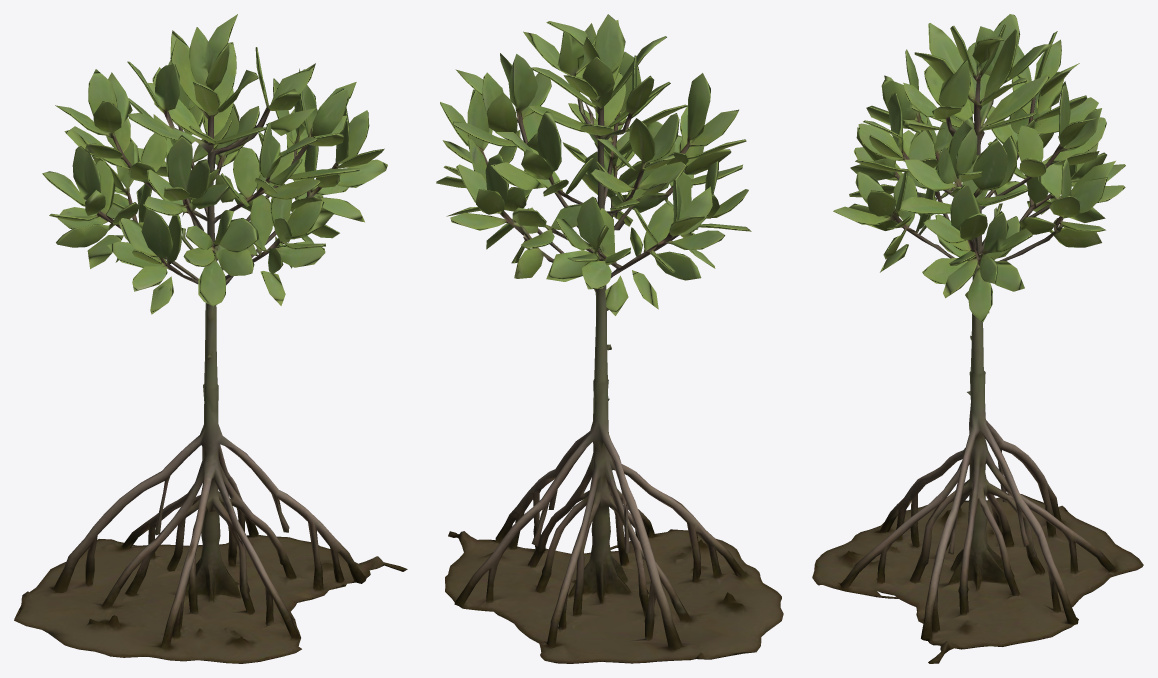
File: mangrove_2.glb
The picture shows the model from 3 angles, left to right: view 1: azimuth 30°, elevation 25°; view 2: azimuth 150°, elevation 25°; view 3: azimuth 270°, elevation 25°; orthographic projection.
Visible parts, largest first — view 1: tripo_node_24590e51-4d40-4ea1-9e47-aa69668ac8d5; view 2: tripo_node_24590e51-4d40-4ea1-9e47-aa69668ac8d5; view 3: tripo_node_24590e51-4d40-4ea1-9e47-aa69668ac8d5.
Part boxes in pixels (x1,y1,x2,y2): tripo_node_24590e51-4d40-4ea1-9e47-aa69668ac8d5: [14, 14, 407, 663]; tripo_node_24590e51-4d40-4ea1-9e47-aa69668ac8d5: [436, 14, 783, 663]; tripo_node_24590e51-4d40-4ea1-9e47-aa69668ac8d5: [812, 14, 1143, 663].
Bounding box in the file's own units: 0.6471 × 1 × 0.5357.
1 material, 1 textured.
